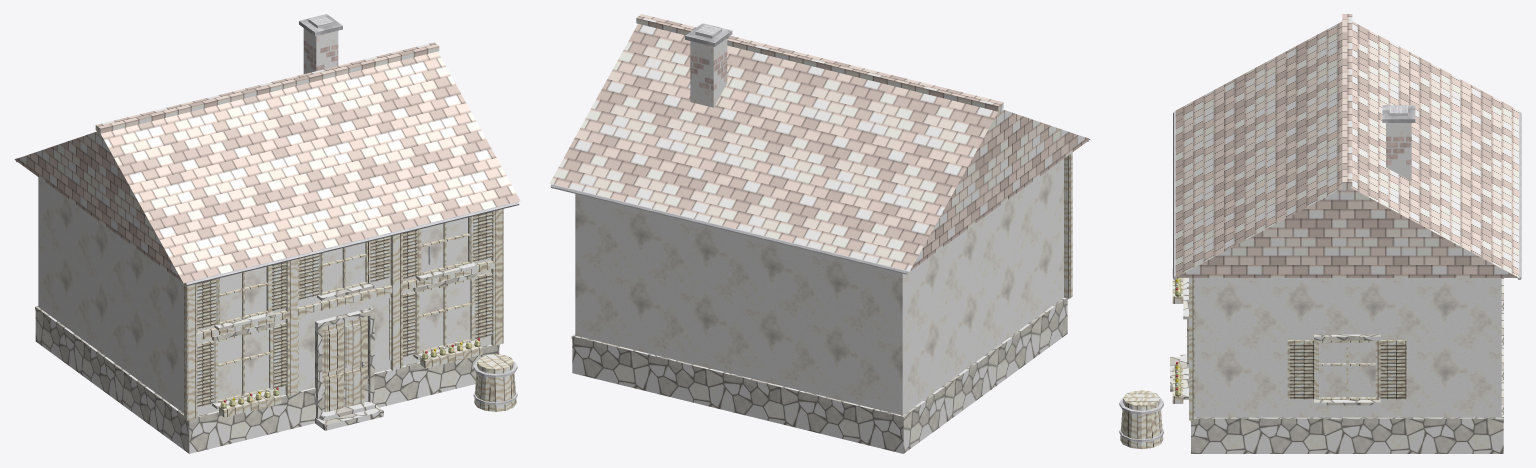
Rendered from osteria.obj.
3 views of the same model, side by side, from view 1: azimuth 30°, elevation 25°; view 2: azimuth 150°, elevation 25°; view 3: azimuth 270°, elevation 25° (orthographic). The views are drawn at different scales.
Parts seen in each view (by area): view 1: tegole_002, intonaco_000, pietra_001, legno_007, legno_030, legno_010, legno_012, legno_020, legno_009, legno_047, pietra_011, legno_043 (+12 smaller); view 2: tegole_002, intonaco_000, pietra_001, mattone_004, metallo_003, legno_007; view 3: tegole_002, intonaco_000, pietra_001, legno_051, legno_009, mattone_004, legno_049, metallo_003, pietra_050, legno_007, metallo_006, cemento_005.
Part boxes in pixels (left/top/right/bottom): tegole_002: left=14, top=42, right=520, bottom=283; intonaco_000: left=38, top=177, right=491, bottom=415; pietra_001: left=35, top=306, right=499, bottom=453; legno_007: left=184, top=209, right=503, bottom=420; legno_030: left=389, top=272, right=492, bottom=360; legno_010: left=322, top=316, right=368, bottom=412; legno_012: left=327, top=325, right=362, bottom=411; legno_020: left=197, top=320, right=298, bottom=407; legno_009: left=474, top=354, right=516, bottom=411; legno_047: left=298, top=236, right=390, bottom=300; pietra_011: left=315, top=307, right=374, bottom=418; legno_043: left=403, top=211, right=492, bottom=279; tegole_002: left=549, top=14, right=1090, bottom=271; intonaco_000: left=575, top=159, right=1063, bottom=415; pietra_001: left=571, top=297, right=1068, bottom=453; mattone_004: left=690, top=38, right=727, bottom=107; metallo_003: left=550, top=137, right=1088, bottom=274; legno_007: left=1064, top=152, right=1072, bottom=298; tegole_002: left=1175, top=14, right=1519, bottom=277; intonaco_000: left=1194, top=278, right=1501, bottom=417; pietra_001: left=1190, top=278, right=1503, bottom=453; legno_051: left=1287, top=340, right=1406, bottom=399; legno_009: left=1120, top=390, right=1163, bottom=449; mattone_004: left=1386, top=123, right=1411, bottom=180; legno_049: left=1316, top=340, right=1378, bottom=399; metallo_003: left=1173, top=111, right=1521, bottom=279; pietra_050: left=1314, top=334, right=1380, bottom=405; legno_007: left=1189, top=278, right=1194, bottom=420; metallo_006: left=1119, top=105, right=1407, bottom=442; cemento_005: left=1382, top=105, right=1415, bottom=122.
Size of the model in its own units: 7.74 by 6.59 by 7.82.
25 materials, 22 textured.
